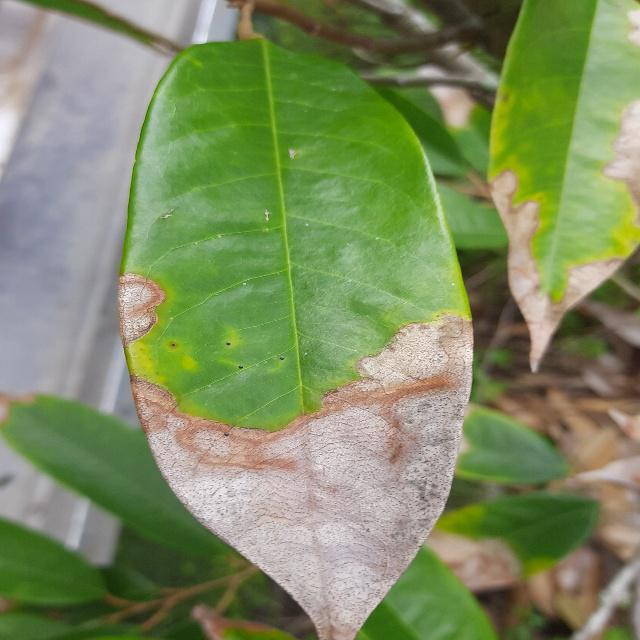Leaf Blight: (121, 21, 479, 639)
